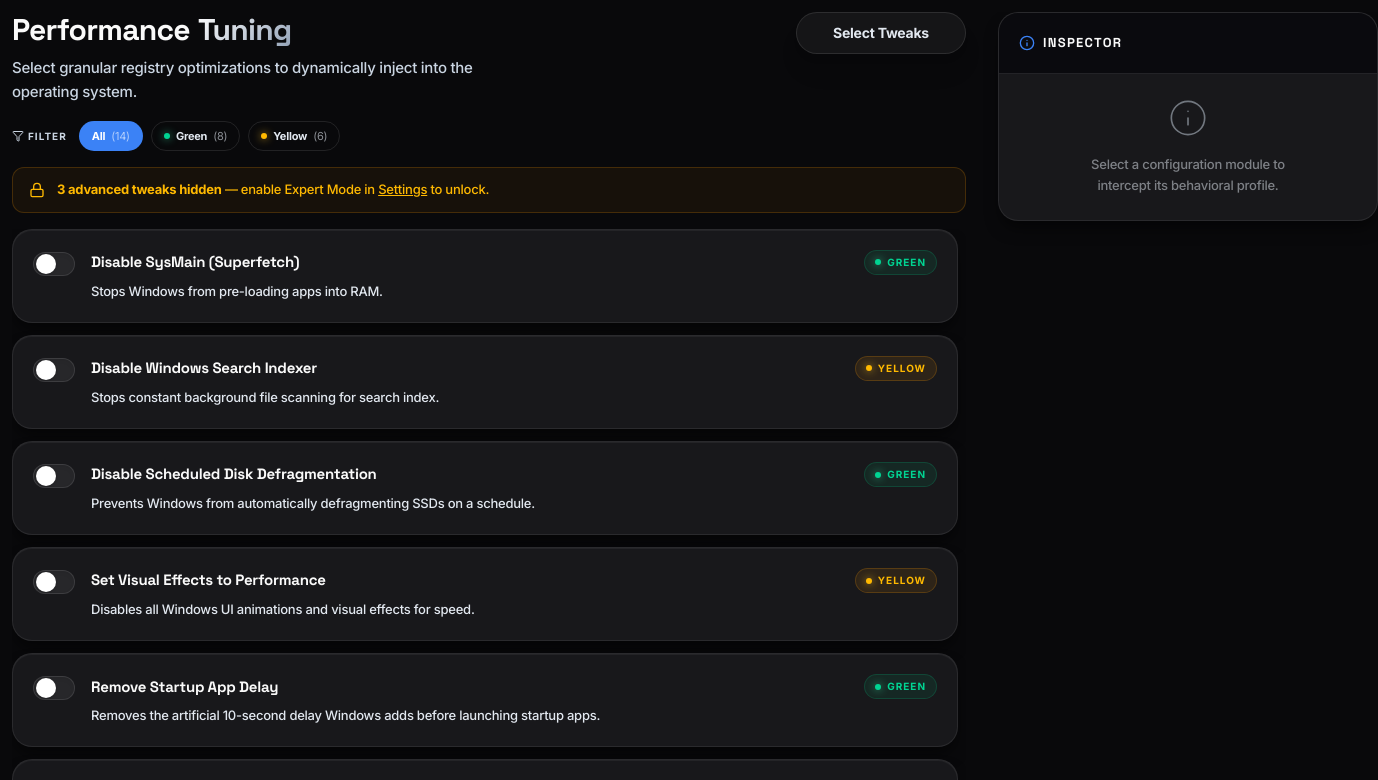
Test case: TweaksPage integration › Clear button removes selection and hides the batch bar
The image size is (1378, 780).
Click the element named "Toggle selection". click: (54, 264)
box: [33, 252, 75, 276]
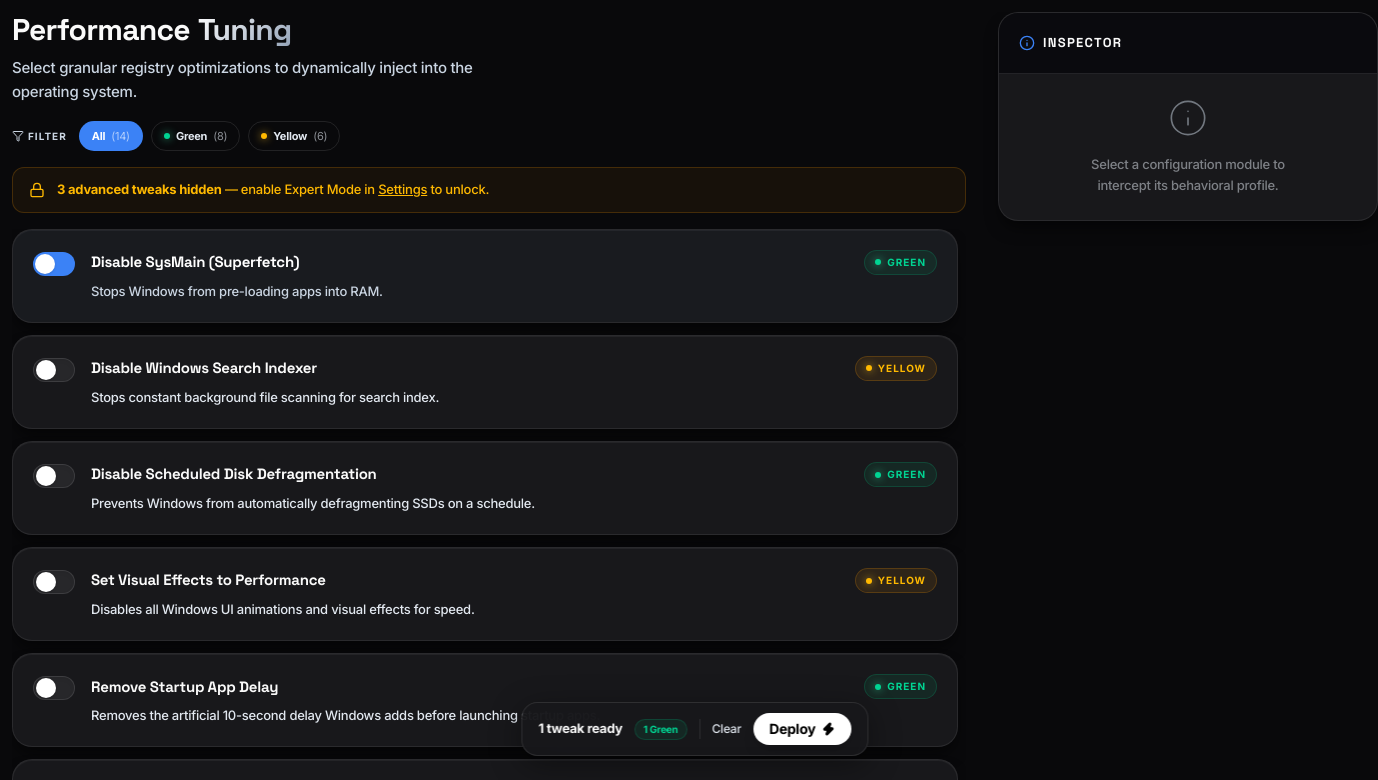
Expected: the text "1 tweak ready" is shown, [538, 719, 622, 739]
Click the button "Clear". click: (727, 729)
box: [712, 720, 741, 738]
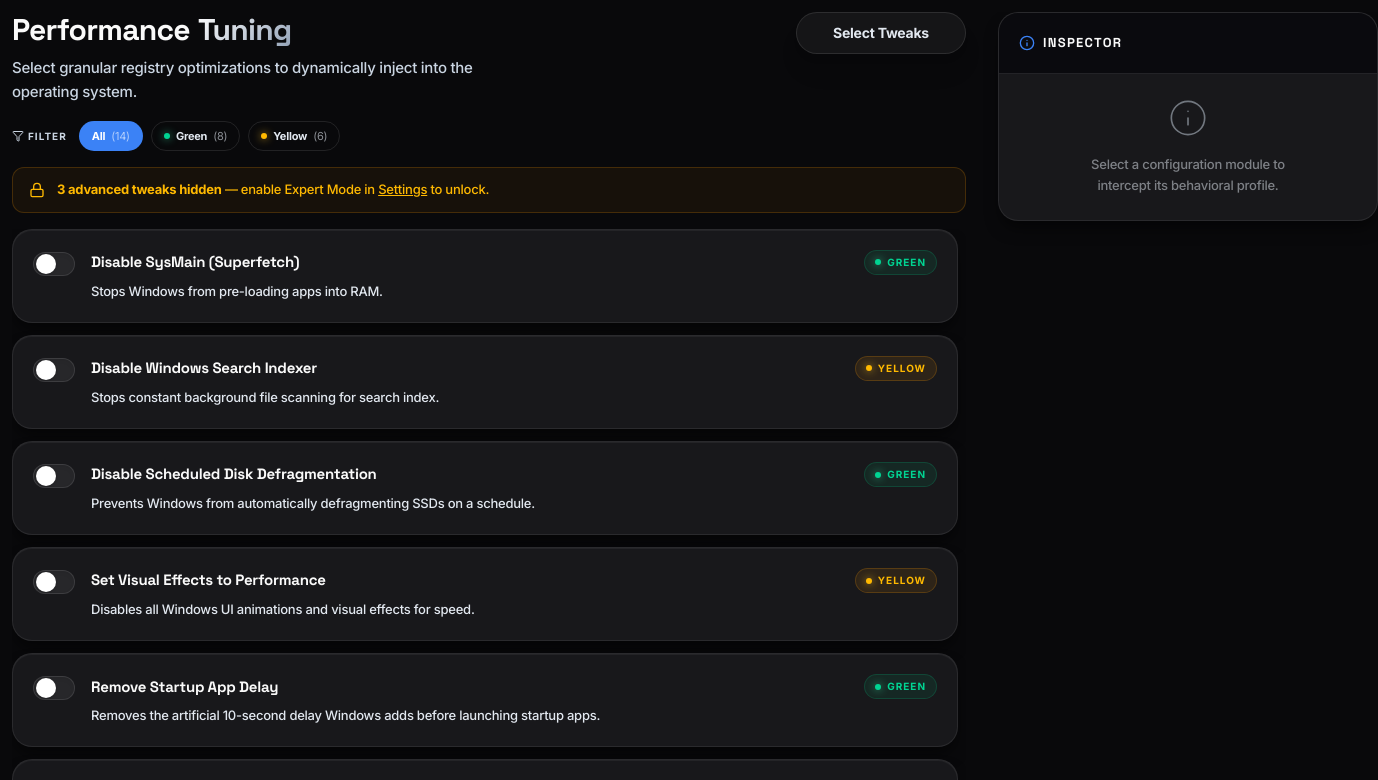
Expected: the text "1 tweak ready" is gone
